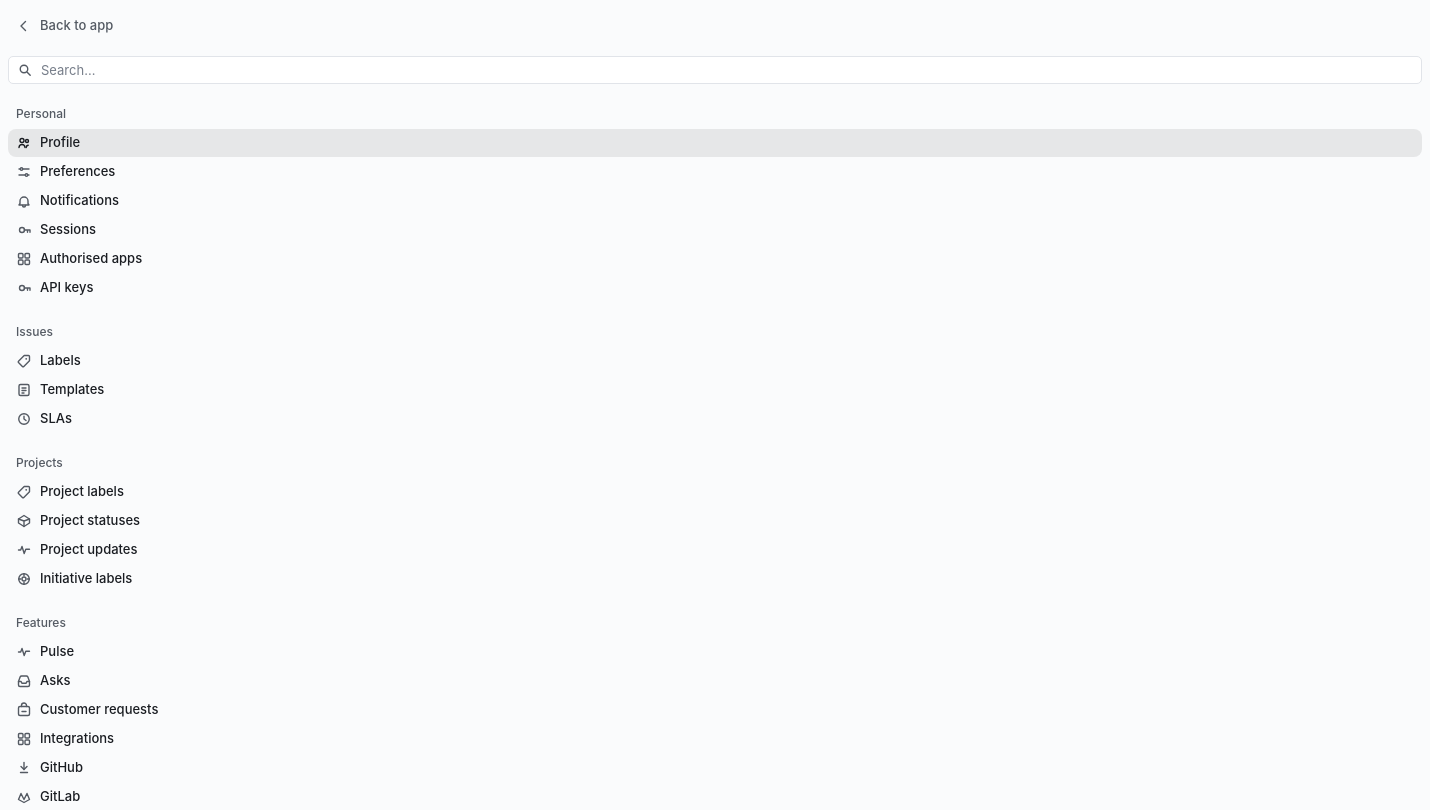
Test: SettingsNav › filters the rows as the search box is typed into, and hides emptied groups
Type "labels" into the search field named "Search settings" at point(727, 70), box x1=41 y1=57 x2=1413 y2=83
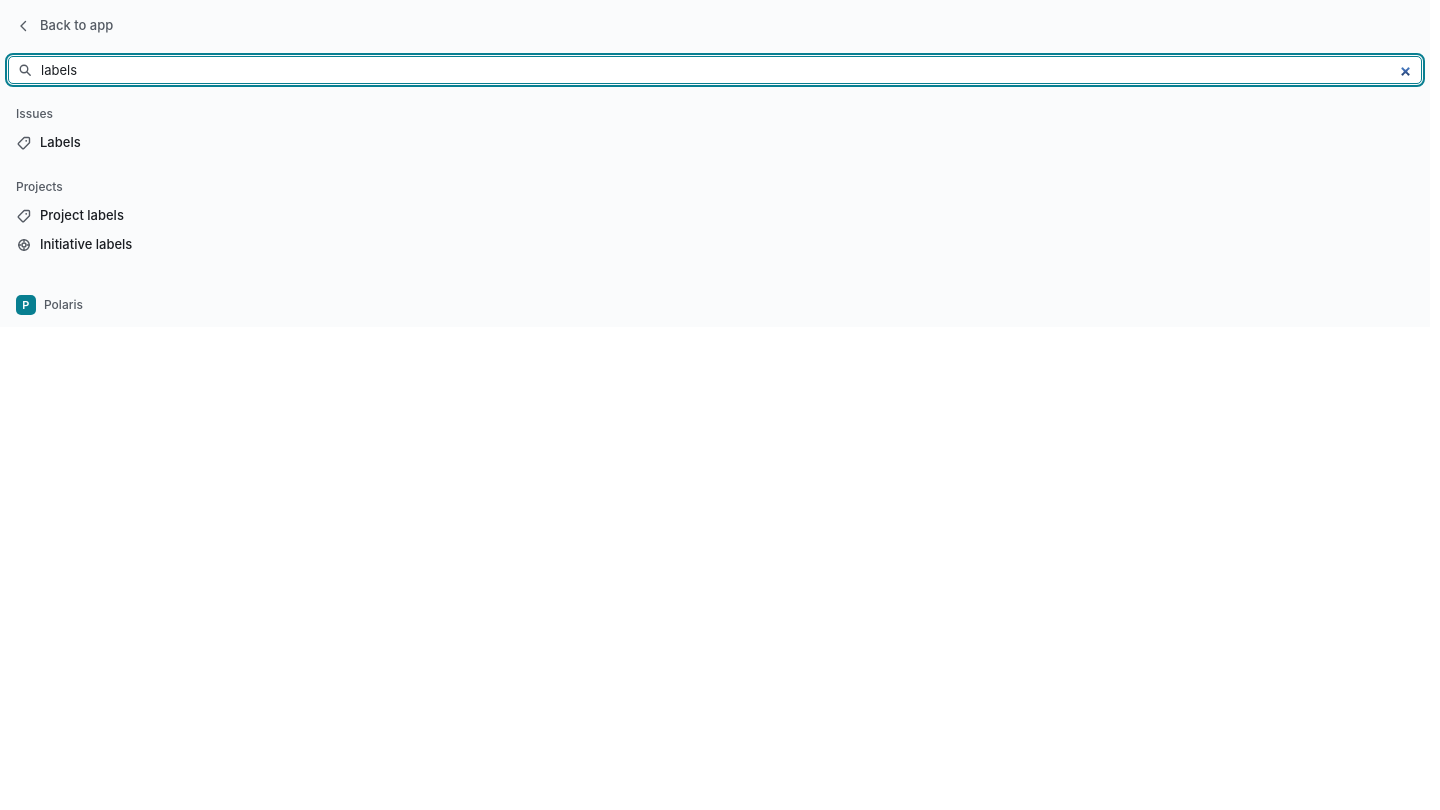
Expected: the links read "Back to app", "Labels", "Project labels", "Initiative labels", in this order, x1=16 y1=17 x2=113 y2=34; x1=16 y1=134 x2=81 y2=151; x1=16 y1=207 x2=124 y2=224; x1=16 y1=236 x2=132 y2=253
Result: the headings read "Issues", "Projects", in this order at x1=16 y1=106 x2=53 y2=121; x1=16 y1=179 x2=63 y2=194
